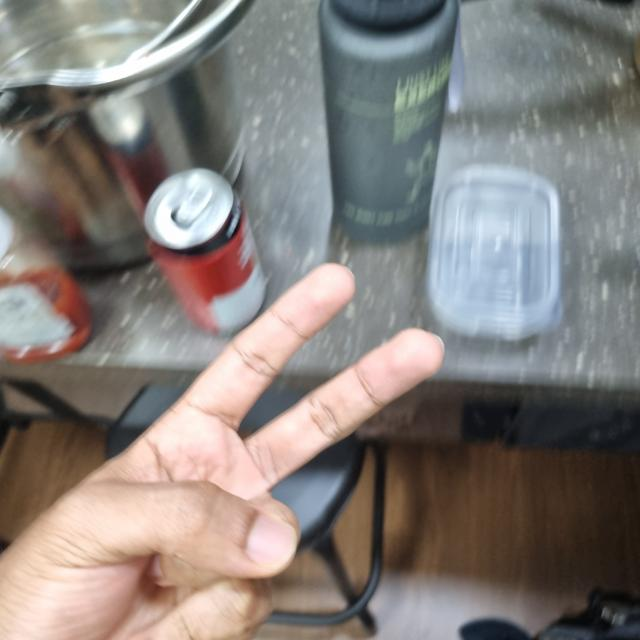Scissors: (0, 267, 441, 639)
